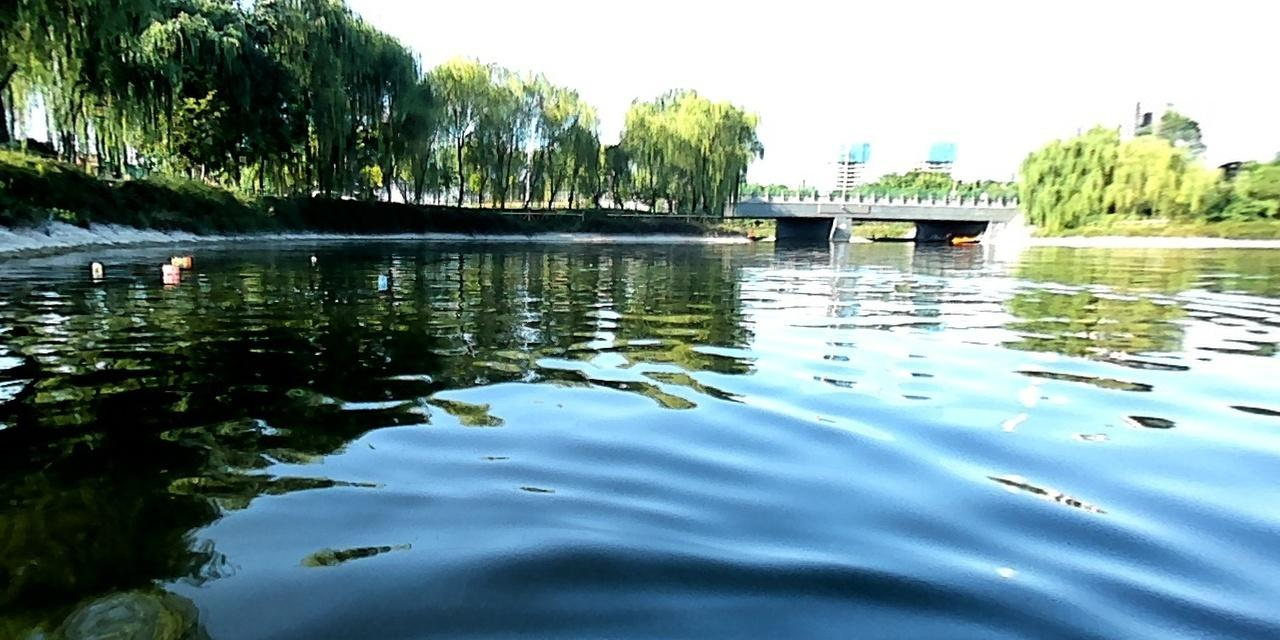bottle: (166, 253, 192, 266), (159, 261, 181, 275), (372, 271, 391, 286)
